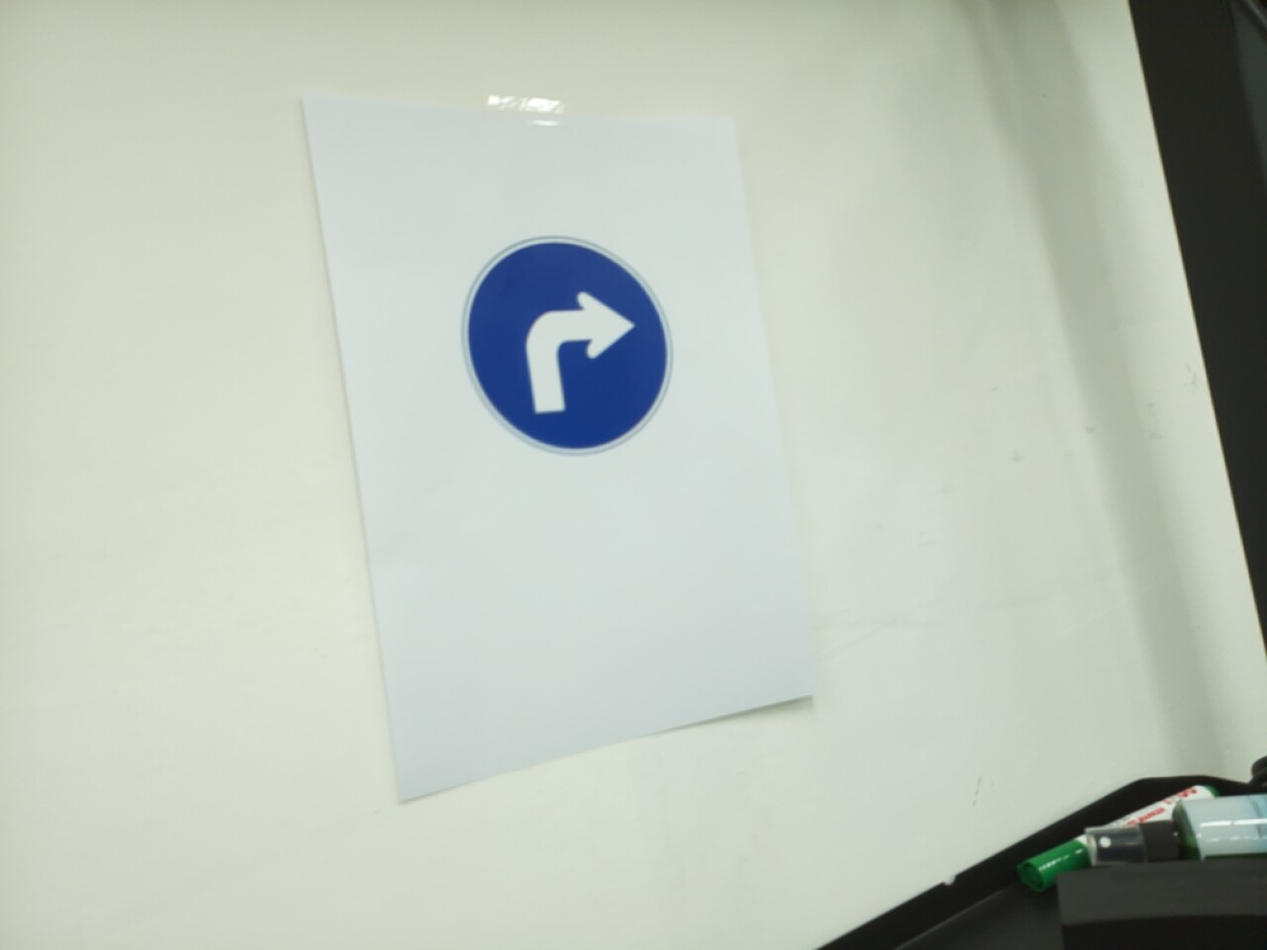right_turn: (460, 235, 675, 457)
